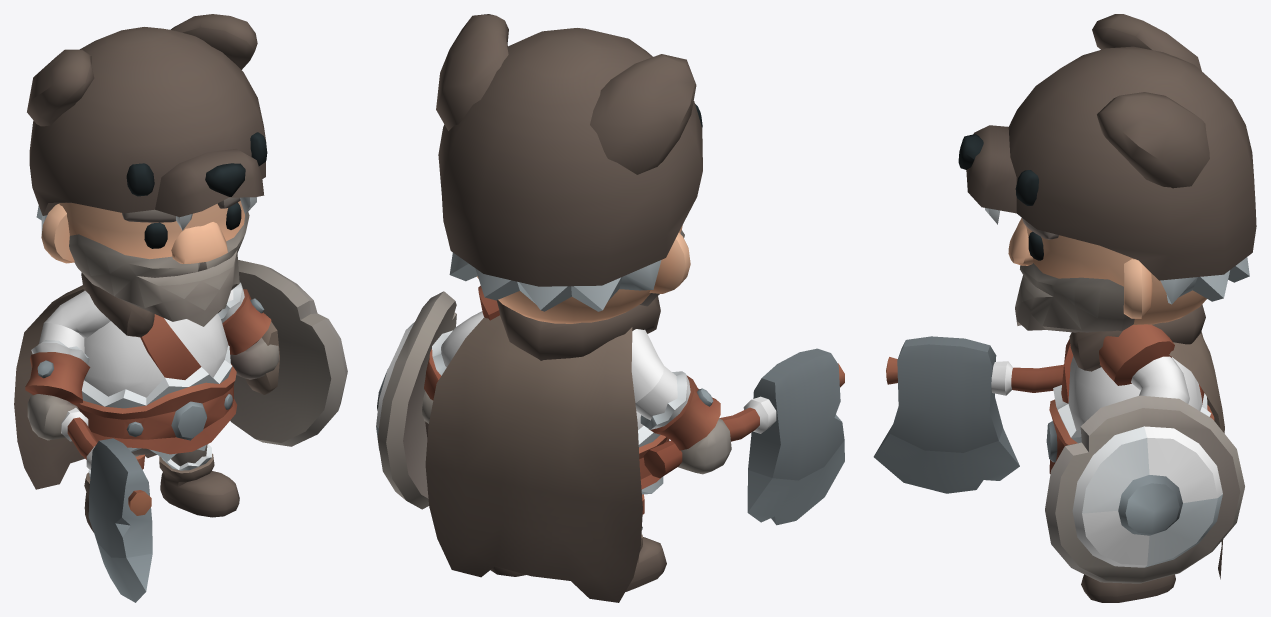
File: warrior.glb
3 views of the same model, side by side, from view 1: azimuth 30°, elevation 25°; view 2: azimuth 150°, elevation 25°; view 3: azimuth 270°, elevation 25° (orthographic). The views are drawn at different scales.
Parts seen in each view (by area): view 1: warrior; view 2: warrior; view 3: warrior.
Part boxes in pixels (x1=…): warrior: x1=14, y1=14, x2=347, y2=602; warrior: x1=376, y1=14, x2=844, y2=602; warrior: x1=873, y1=14, x2=1256, y2=602.
Size of the model in its own units: 1.14 by 1.75 by 1.2.
2 materials, 1 textured.
